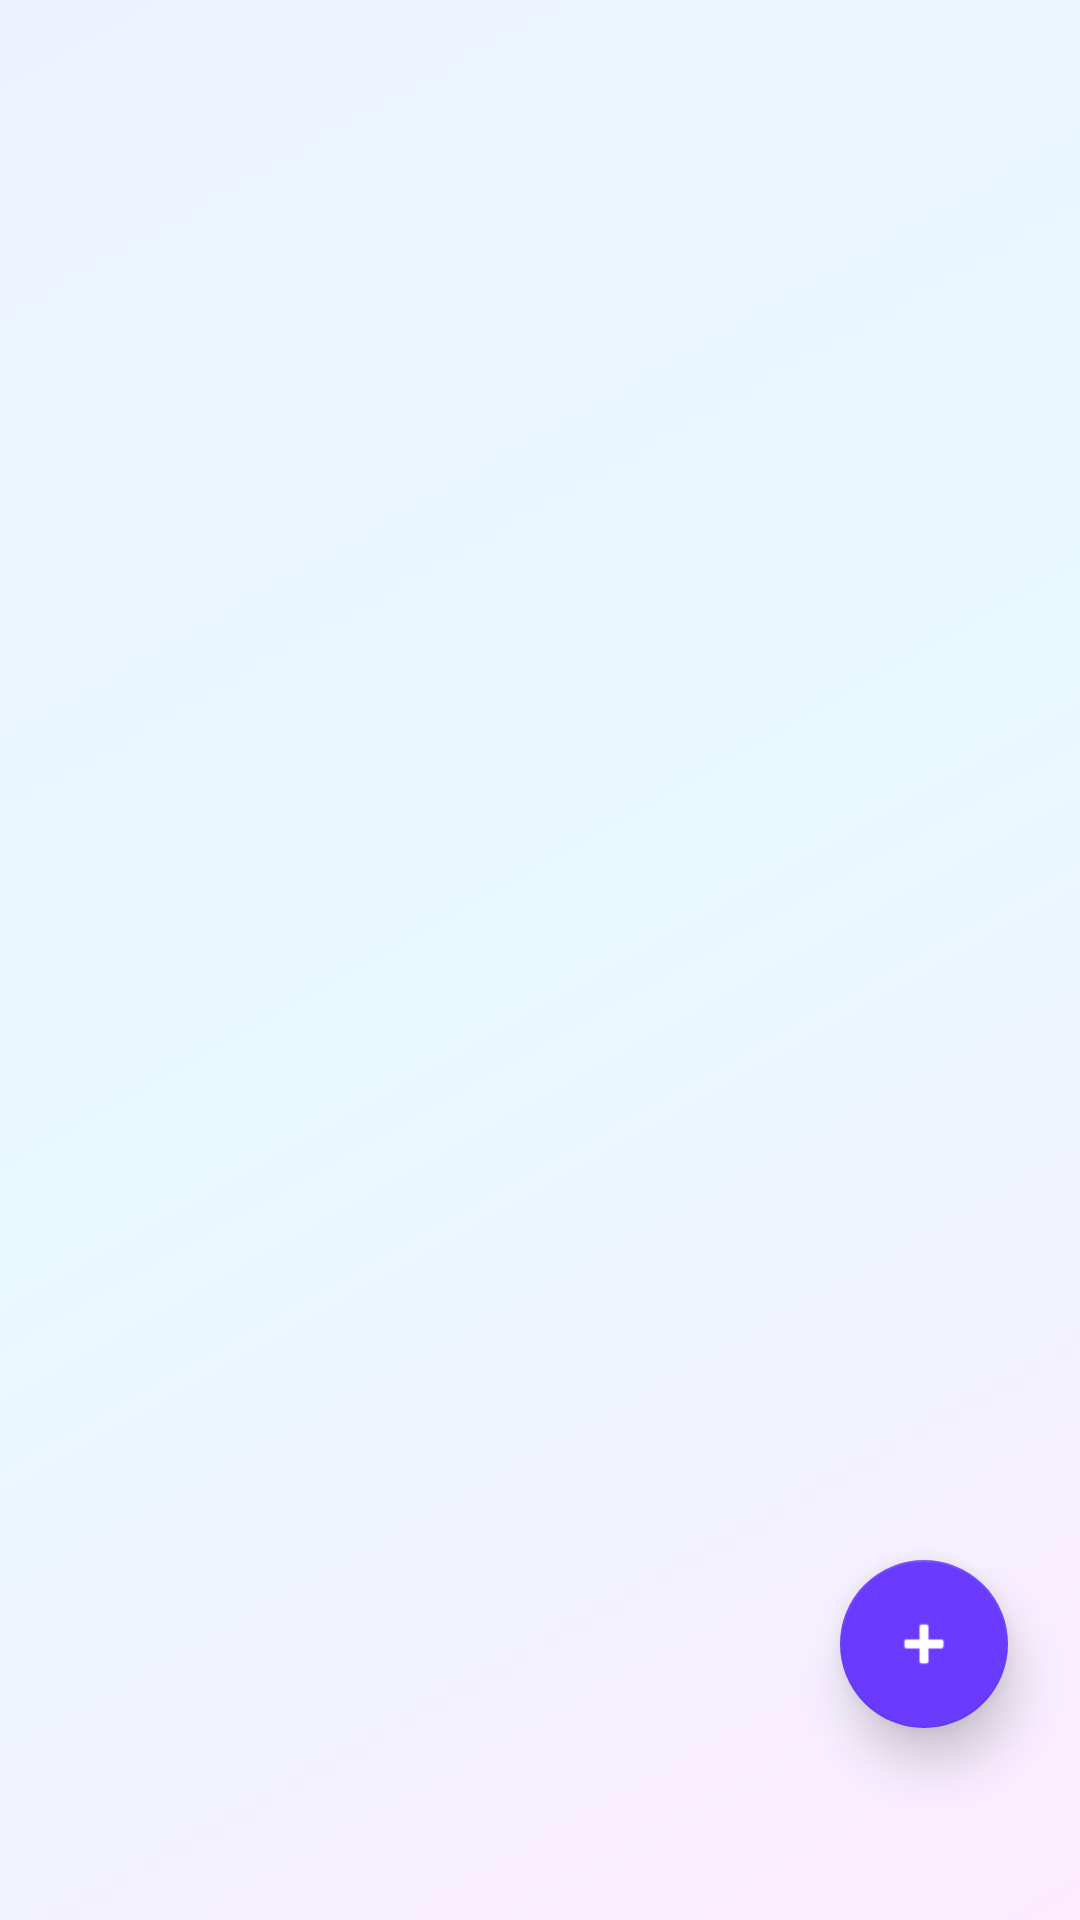

Screen size 1080px x 1920px. Icon name, then its box in pixels as (x1, y1, x2, y2):
Añadir videojuego: (840, 1560, 1008, 1728)
